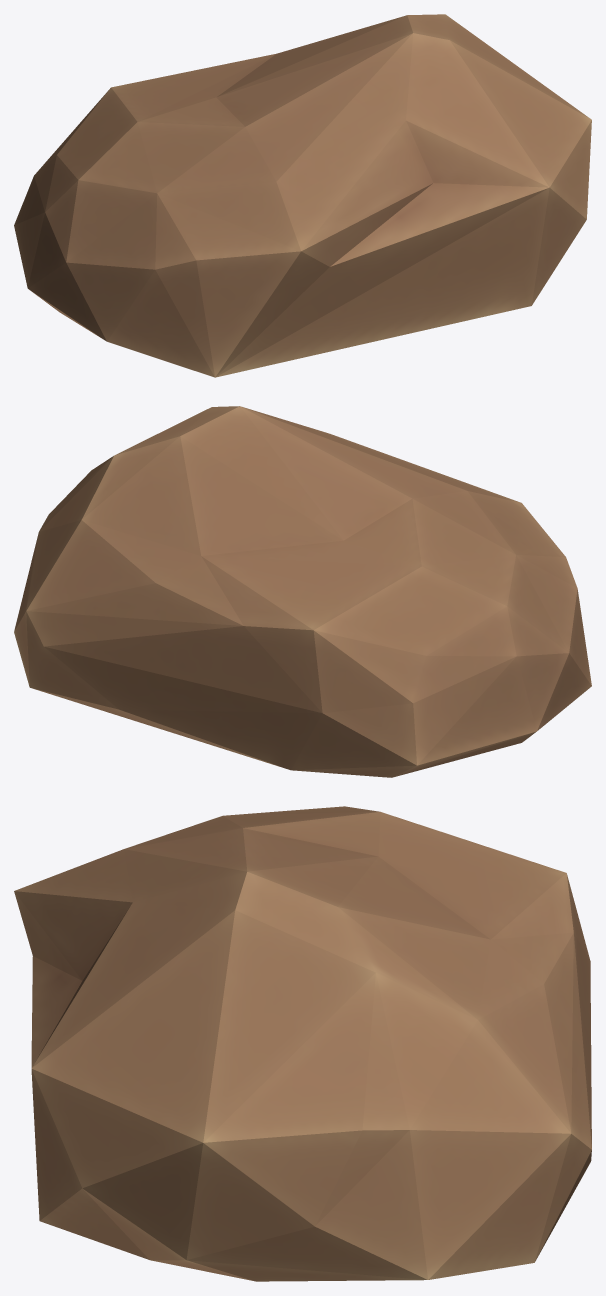
Rendered from Rock_34.fbx.
The picture shows the model from 3 angles, top to bottom: view 1: azimuth 30°, elevation 25°; view 2: azimuth 150°, elevation 25°; view 3: azimuth 270°, elevation 25°; orthographic projection. The views are drawn at different scales.
Parts seen in each view (by area): view 1: Rock_34; view 2: Rock_34; view 3: Rock_34.
Boxes of the visible parts, x1,y1,x2,y2 form: Rock_34: [14, 14, 591, 377]; Rock_34: [14, 406, 591, 777]; Rock_34: [14, 806, 591, 1281].
Size of the model in its own units: 38.01 by 27.13 by 16.55.
Materials: 1 (1 with a texture image).
